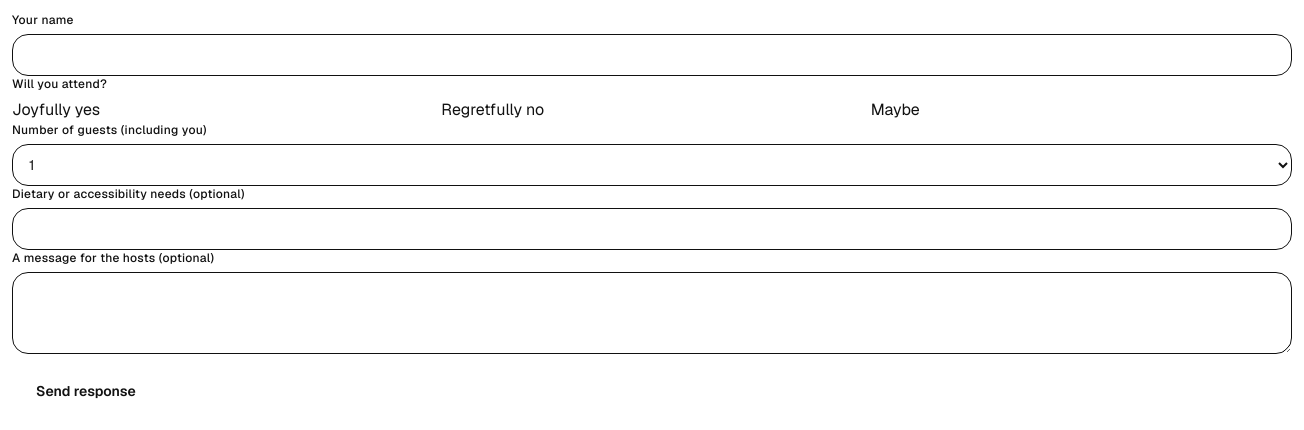
Scenario: RsvpForm › submits to the API and shows a thank-you state
In the field labelled "Your name": (652, 55) left=12, top=34, right=1292, bottom=76, type "Priya Sharma"
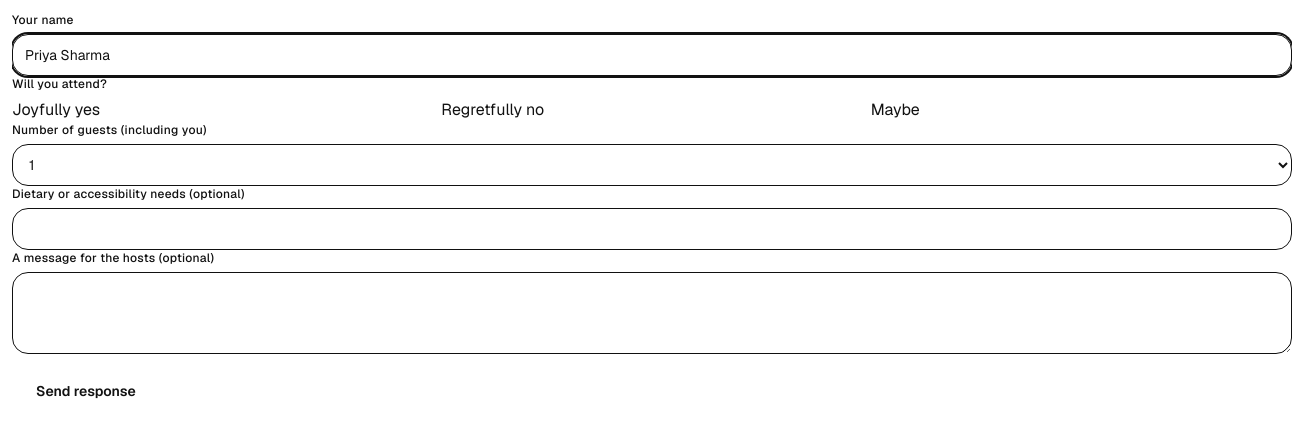
Click the button "Send response": (86, 391) left=12, top=369, right=160, bottom=413
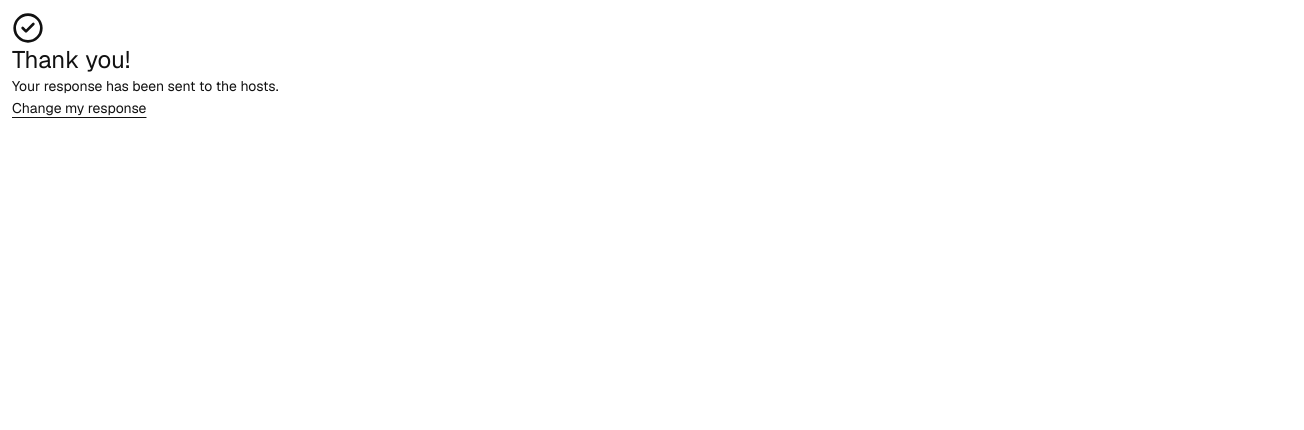
Now the text "Thank you!" is shown, box left=12, top=44, right=130, bottom=75
